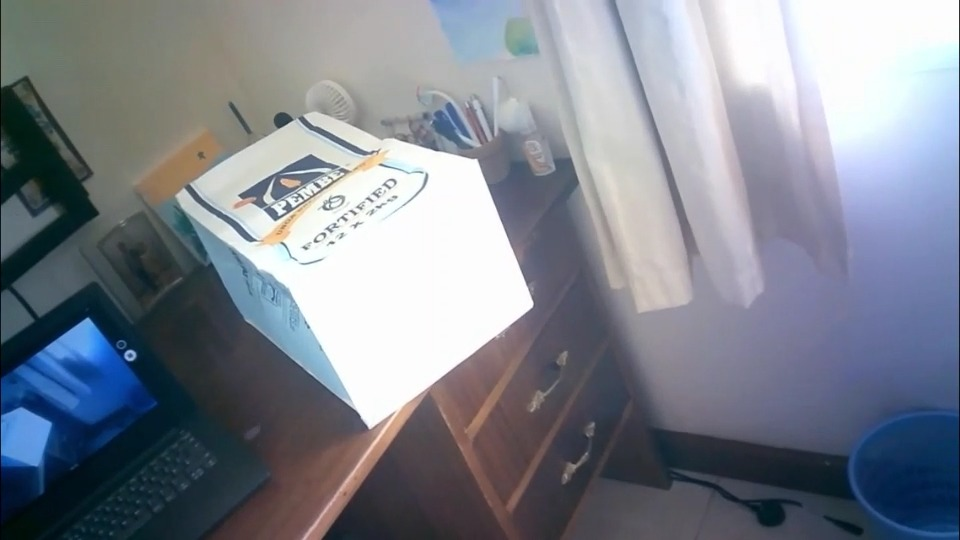wheat_flour_blue_label: (174, 110, 533, 426)
